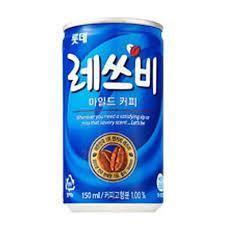letsbe: (58, 19, 167, 213)
